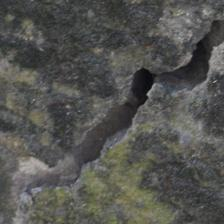Crack: (20, 22, 220, 211)
